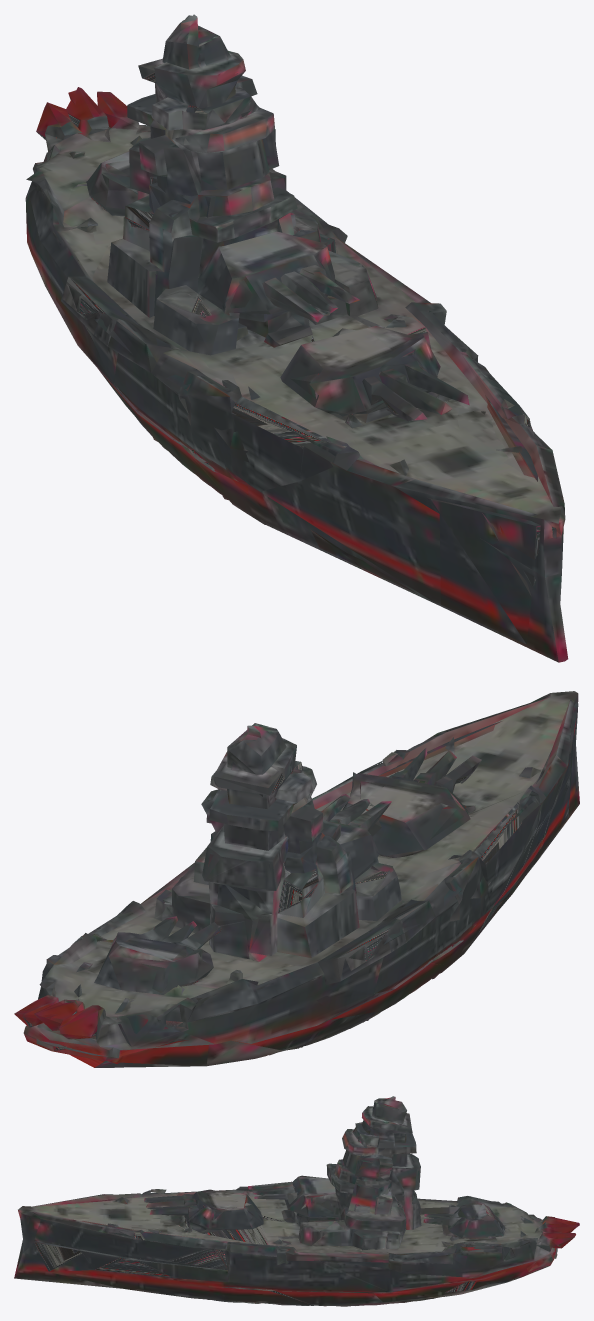
The model's file is boss-galleon.glb.
3 views of the same model, one above another, from view 1: azimuth 30°, elevation 25°; view 2: azimuth 150°, elevation 25°; view 3: azimuth 270°, elevation 25° (orthographic). The views are drawn at different scales.
Bounding box in the file's own units: 0.3735 × 0.466 × 1.28.
Materials: 1 (1 with a texture image).
